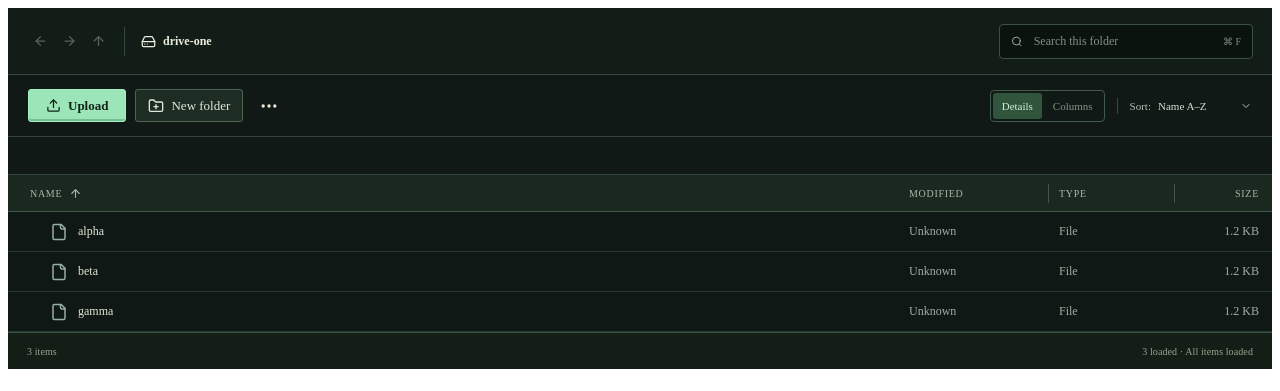
stable selection and keyboard › supports range, page-scoped Ctrl+A, F2 and safe Delete
Later steps or results of the test are not shown.
Click the text "alpha": (640, 232) [8,212,1272,252]
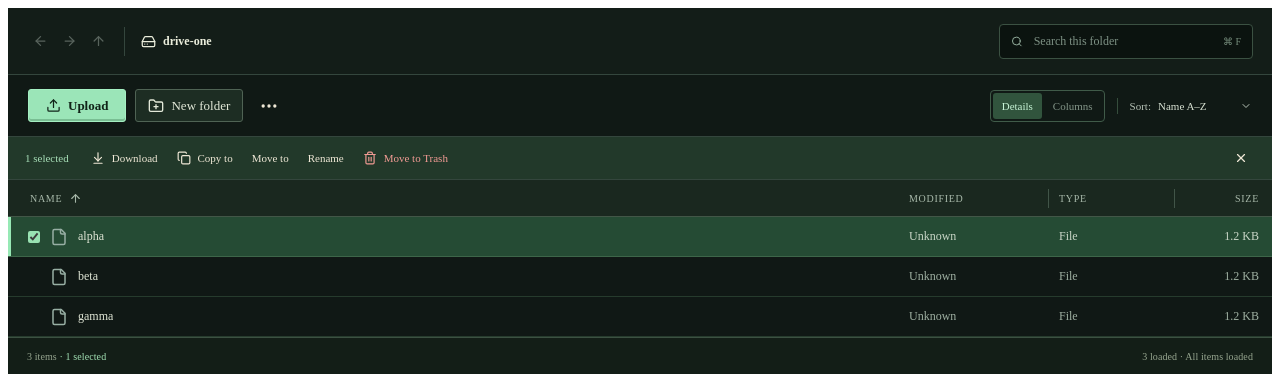
Press F2 in the text "alpha", box [8,217,1272,257]
Press ArrowDown in the text "alpha", box [8,217,1272,257]
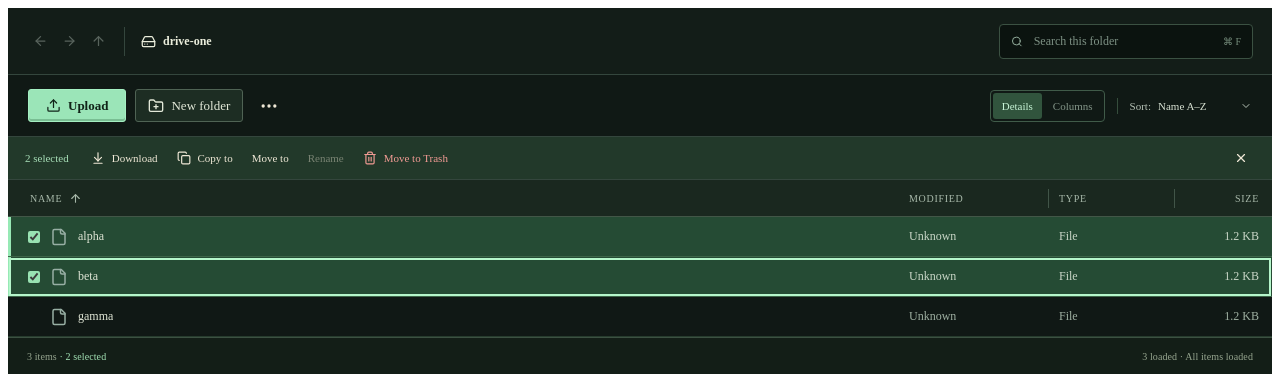
Now the text "beta" is selected, box [8,257,1272,297]
Now the text "alpha" is selected, box [8,217,1272,257]
